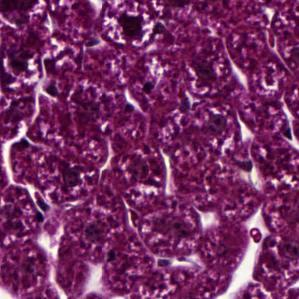inflammation: (104, 8, 158, 46), (228, 155, 264, 184)
